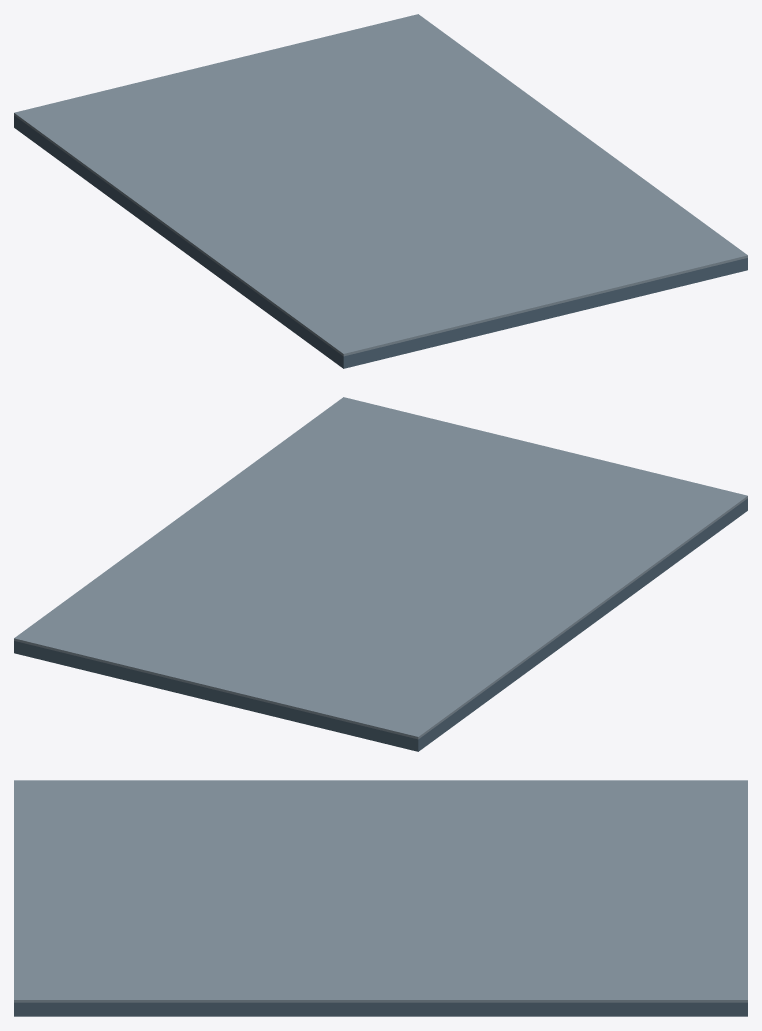
Rendered from TS-632.00.000-39-plita-dielektricheskaya-480x340.glb.
3 renders of one model, top to bottom at view 1: azimuth 30°, elevation 25°; view 2: azimuth 150°, elevation 25°; view 3: azimuth 270°, elevation 25°, orthographic. The views are drawn at different scales.
Visible parts, largest first — view 1: prokladka, plita; view 2: prokladka, plita; view 3: prokladka, plita.
Part boxes in pixels (bbox=[...]): prokladka: bbox=[14, 14, 747, 356]; plita: bbox=[14, 115, 747, 368]; prokladka: bbox=[14, 397, 747, 739]; plita: bbox=[14, 498, 747, 751]; prokladka: bbox=[14, 780, 747, 1002]; plita: bbox=[14, 1002, 747, 1016].
Bounding box in the file's own units: 340 × 12 × 480.
